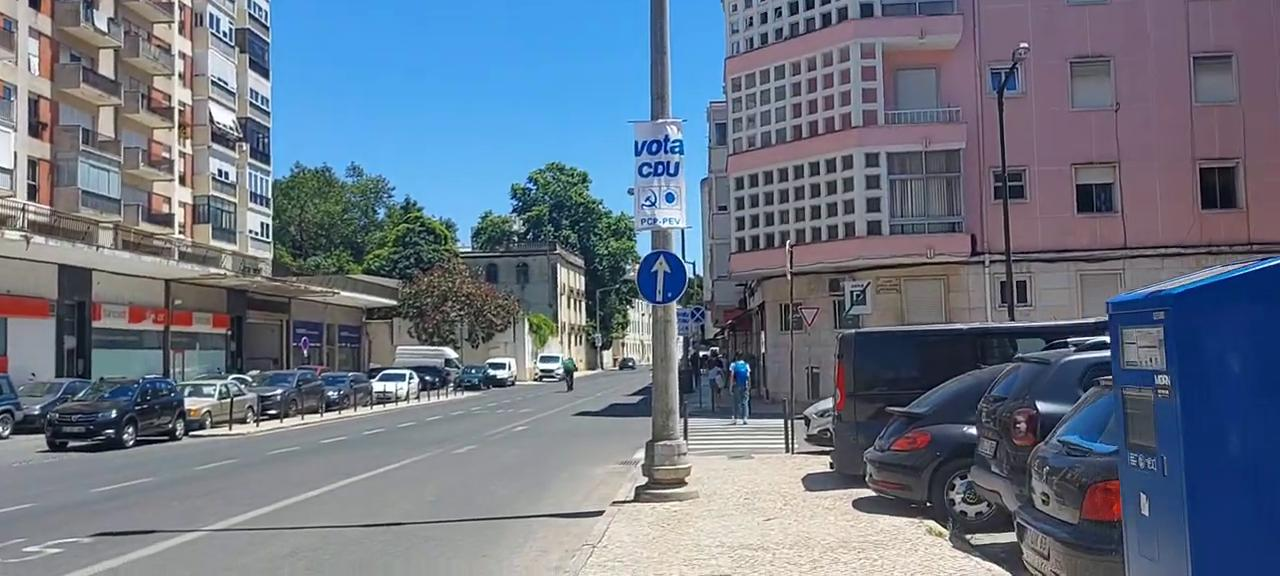sentido obrigatorio: (631, 248, 688, 307)
